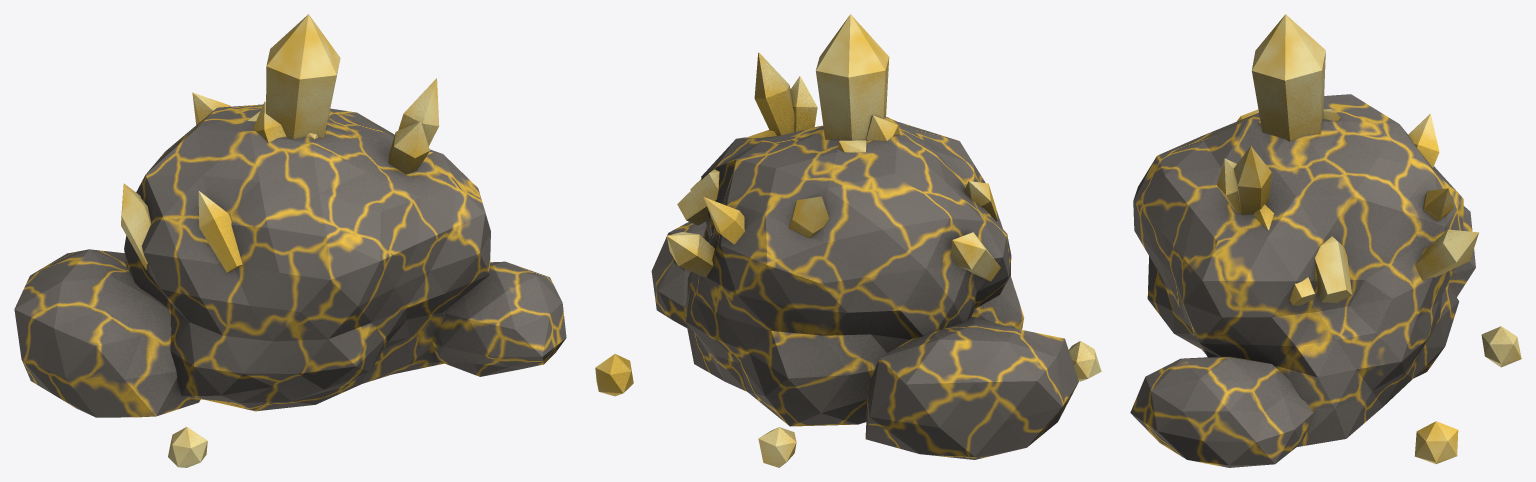
The model's file is mineral_oro.fbx.
The picture shows the model from 3 angles, left to right: view 1: azimuth 30°, elevation 25°; view 2: azimuth 150°, elevation 25°; view 3: azimuth 270°, elevation 25°; orthographic projection.
Parts seen in each view (by area): view 1: mineral_oro; view 2: mineral_oro; view 3: mineral_oro.
Part boxes in pixels (<box>): mineral_oro: <box>14,14,566,467</box>; mineral_oro: <box>595,14,1101,467</box>; mineral_oro: <box>1130,14,1521,467</box>.
Bounding box in the file's own units: 7.24 × 5.51 × 5.27.
1 material, 1 textured.
